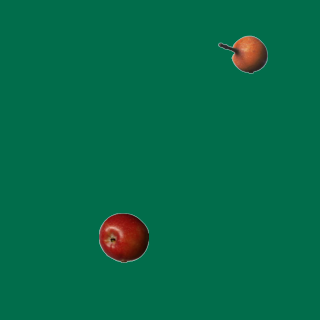Apple Braeburn: (98, 212, 148, 262)
Granadilla: (217, 29, 267, 79)
